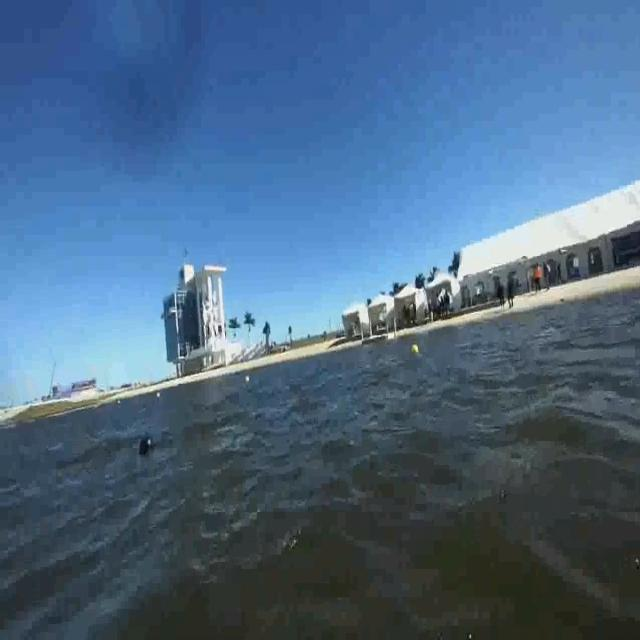black-buoy: (138, 433, 152, 457)
